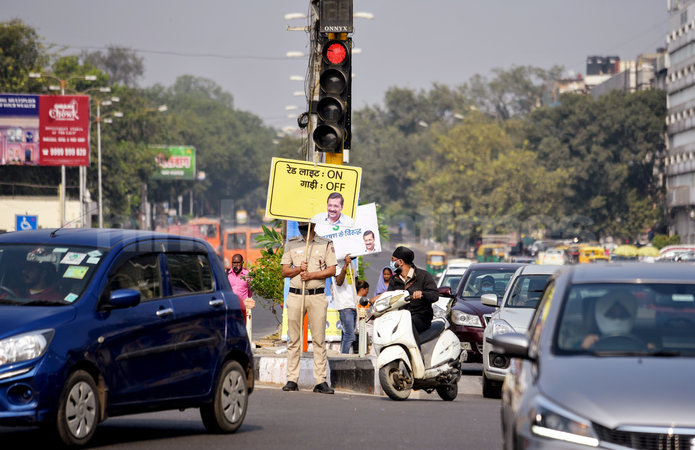red: (314, 37, 351, 152)
